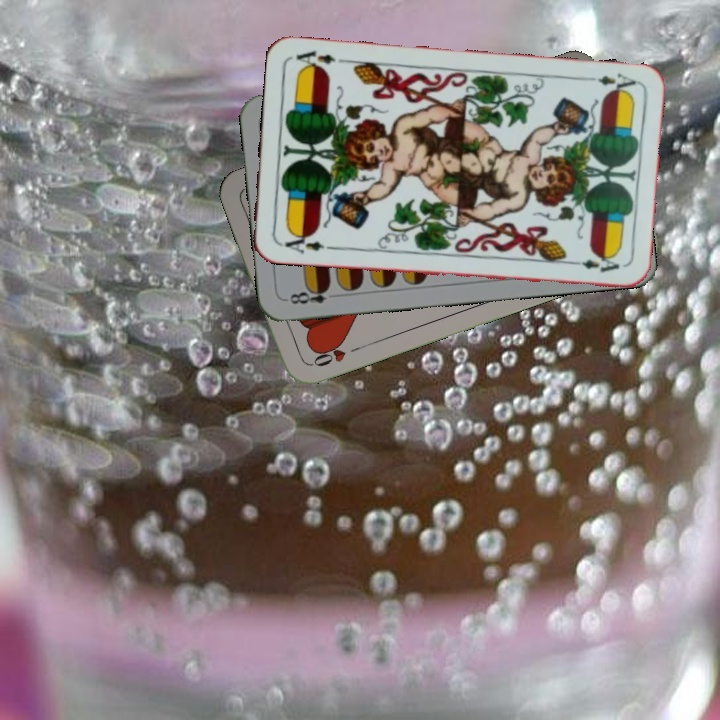E8: (282, 282, 342, 307)
EA: (580, 68, 639, 96), (276, 229, 336, 256)
HO: (305, 336, 363, 370)
